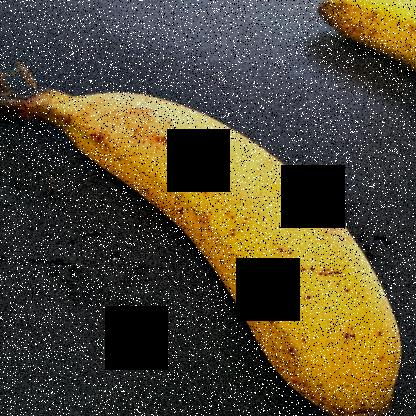ripe: (33, 77, 415, 415), (259, 0, 415, 56)
